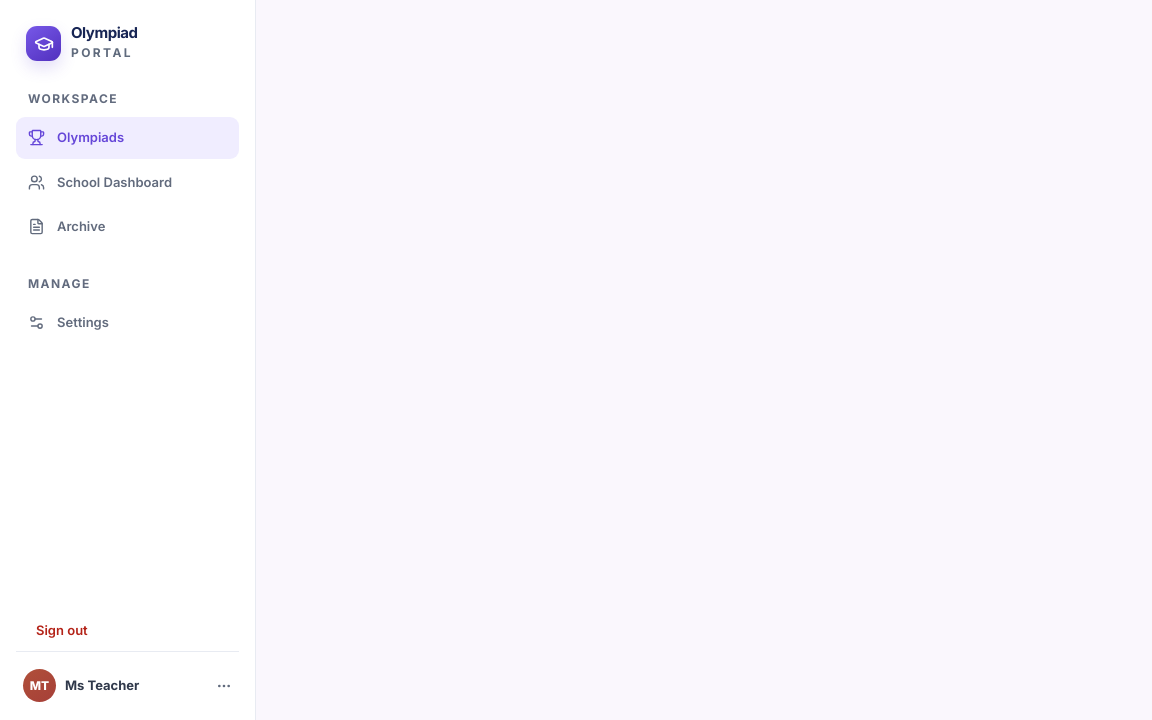
Test case: EducatorSidebar onboarding (#317) › offers a Replay tour button in Settings
What coordinates should you click on to do the following:
click the button "Settings"
I would click on:
 (128, 322)
Its box is x1=16 y1=302 x2=239 y2=343.
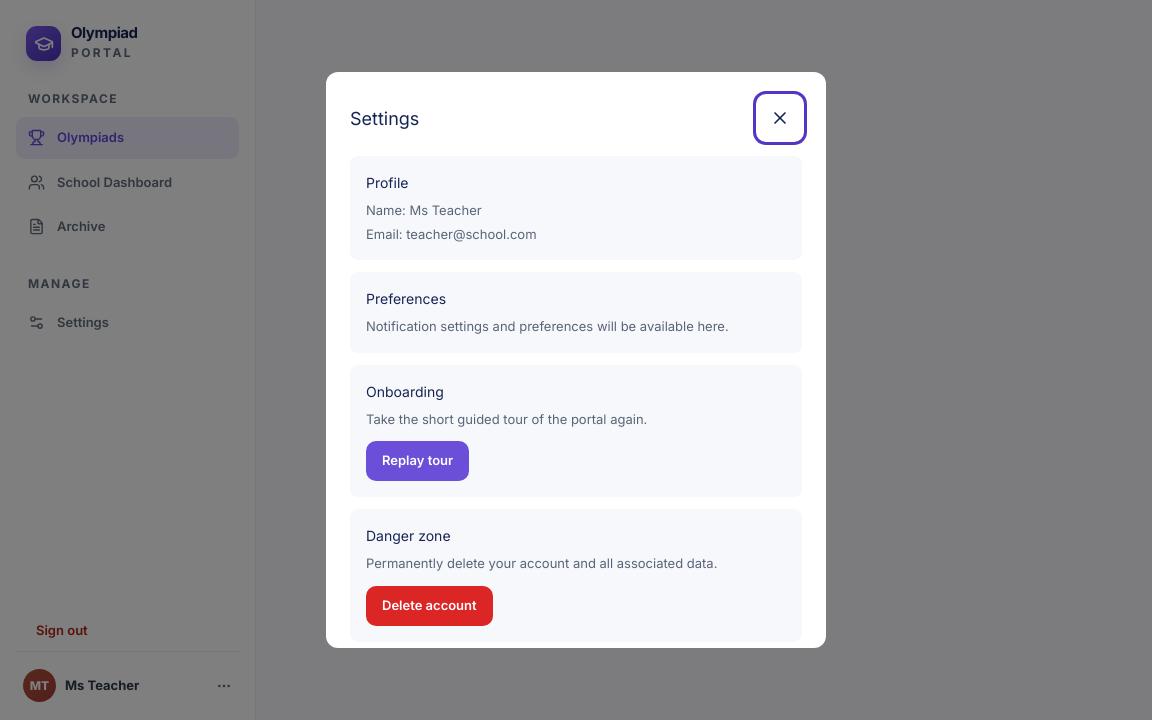
Result: the dialog "Settings" is shown at x1=326 y1=72 x2=826 y2=648
Result: the button "Replay tour" is shown at x1=366 y1=441 x2=469 y2=481
